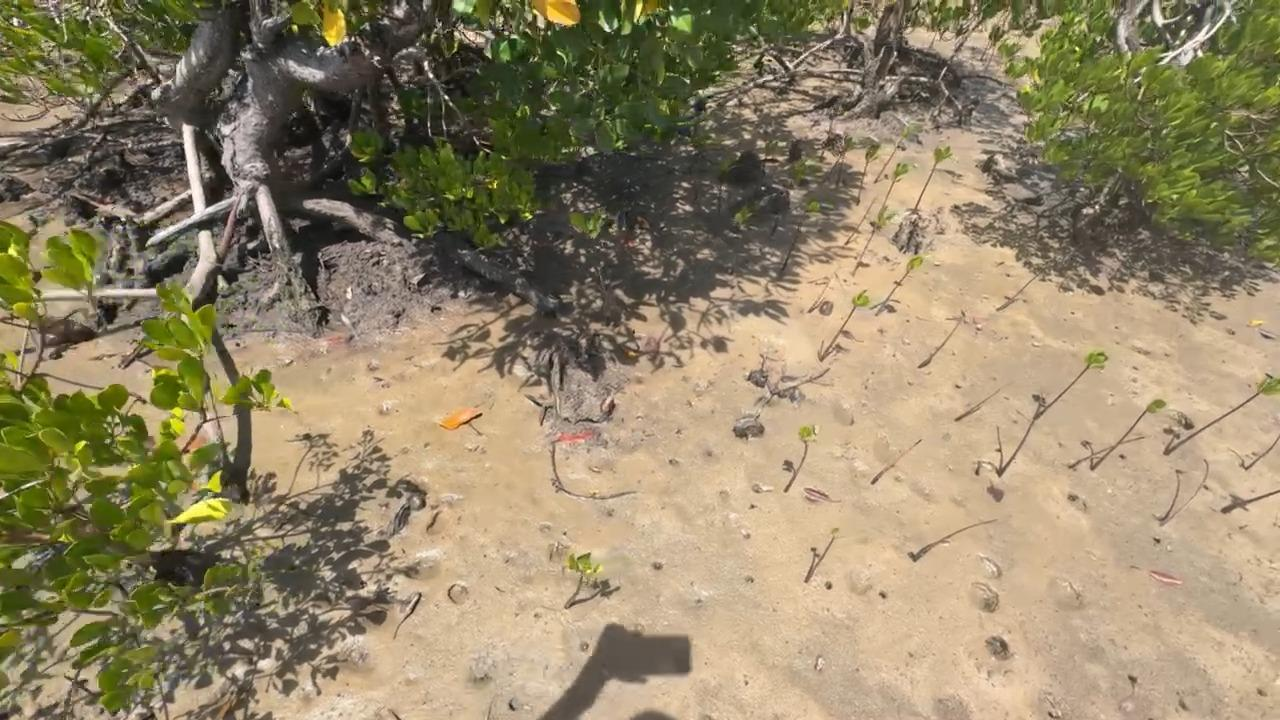Tree: (1161, 374, 1280, 455), (1080, 397, 1167, 472), (976, 393, 1047, 477), (1029, 351, 1109, 420), (1150, 457, 1213, 525), (906, 518, 999, 563), (777, 199, 832, 271), (815, 288, 869, 359), (850, 203, 900, 278), (872, 120, 923, 185), (915, 308, 968, 368), (913, 144, 954, 215), (1067, 434, 1145, 469), (784, 425, 820, 492), (563, 551, 603, 611), (870, 440, 922, 482), (805, 527, 843, 582), (857, 143, 884, 205), (1220, 488, 1280, 514), (825, 137, 857, 181), (883, 162, 907, 205), (758, 138, 778, 187), (719, 146, 734, 206), (836, 133, 851, 186), (896, 256, 923, 283)
